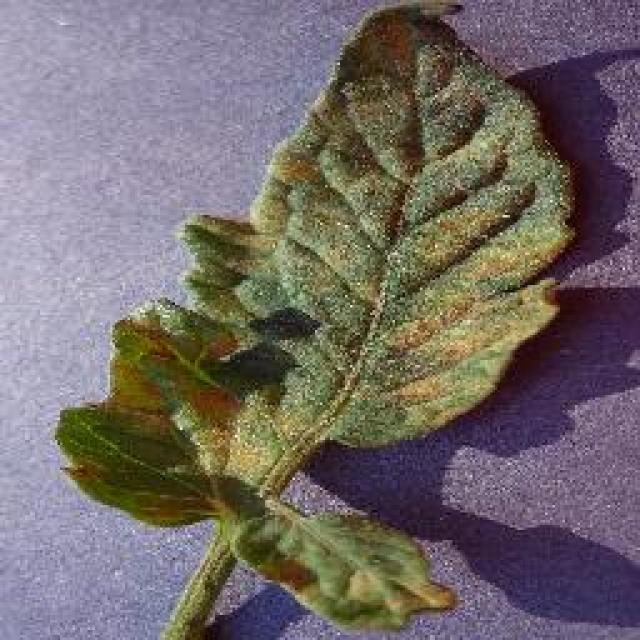Tomato___Leaf_Mold: (55, 0, 572, 638)
